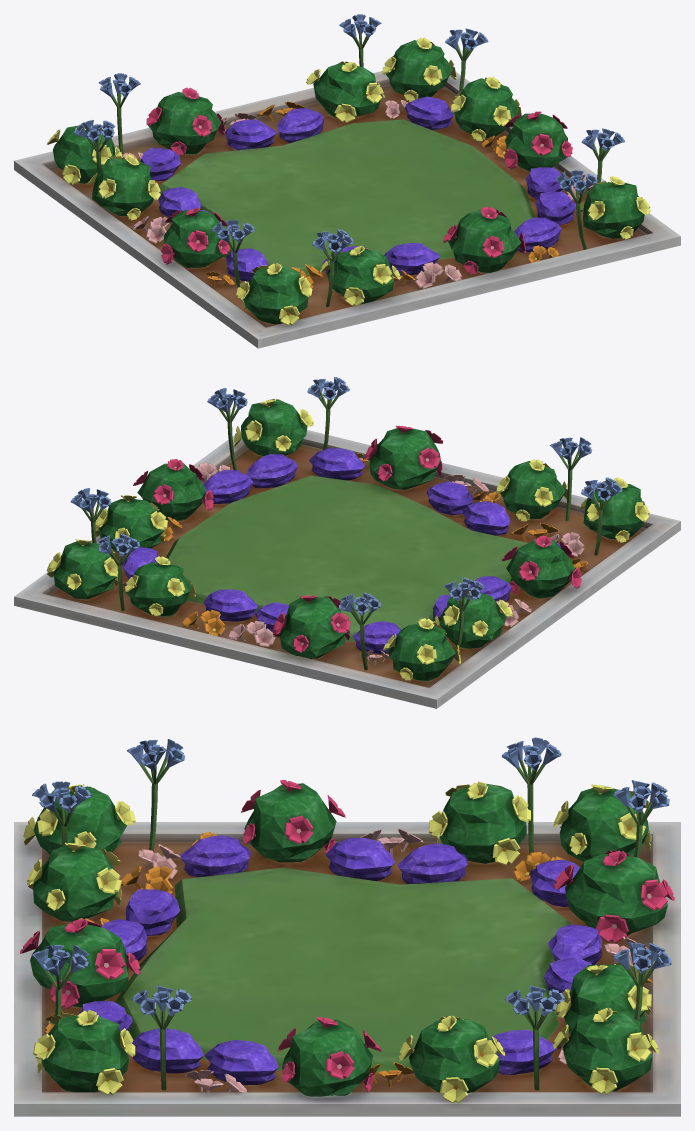
File: 3vUUYmsouMM.glb
3 views of the same model, one above another, from view 1: azimuth 30°, elevation 25°; view 2: azimuth 150°, elevation 25°; view 3: azimuth 270°, elevation 25° (orthographic). The views are drawn at different scales.
Parts seen in each view (by area): view 1: Garden_mesh; view 2: Garden_mesh; view 3: Garden_mesh.
Part boxes in pixels (<box>): Garden_mesh: <box>14,14,680,348</box>; Garden_mesh: <box>14,377,680,708</box>; Garden_mesh: <box>14,737,680,1116</box>.
Size of the model in its own units: 5.66 by 0.9996 by 5.61.
Materials: 1 (1 with a texture image).
